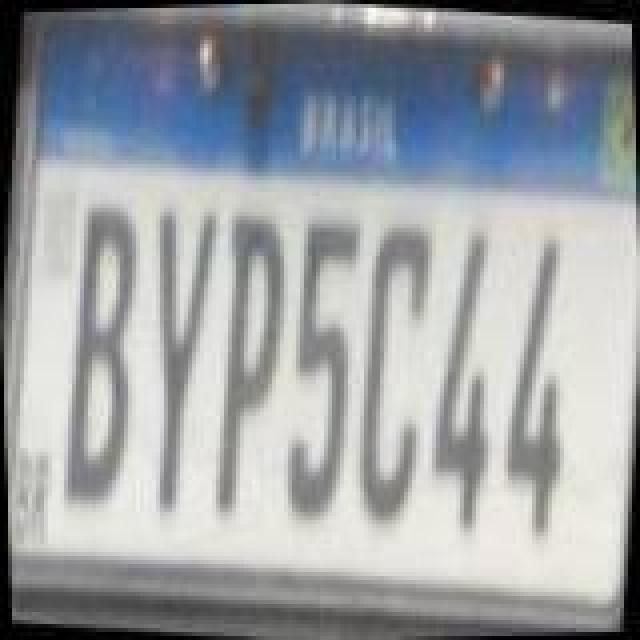4: (410, 220, 514, 540), (486, 226, 590, 542)
5: (270, 212, 374, 524)
B: (48, 198, 152, 506)
C: (342, 214, 446, 518)
P: (198, 204, 302, 520)
Y: (126, 198, 230, 518)
